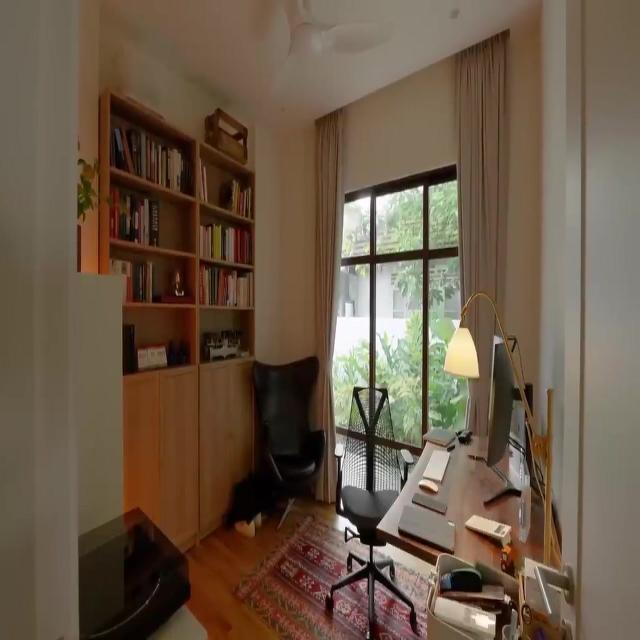obstacle: (376, 424, 562, 638), (324, 385, 418, 632), (250, 354, 326, 530)
